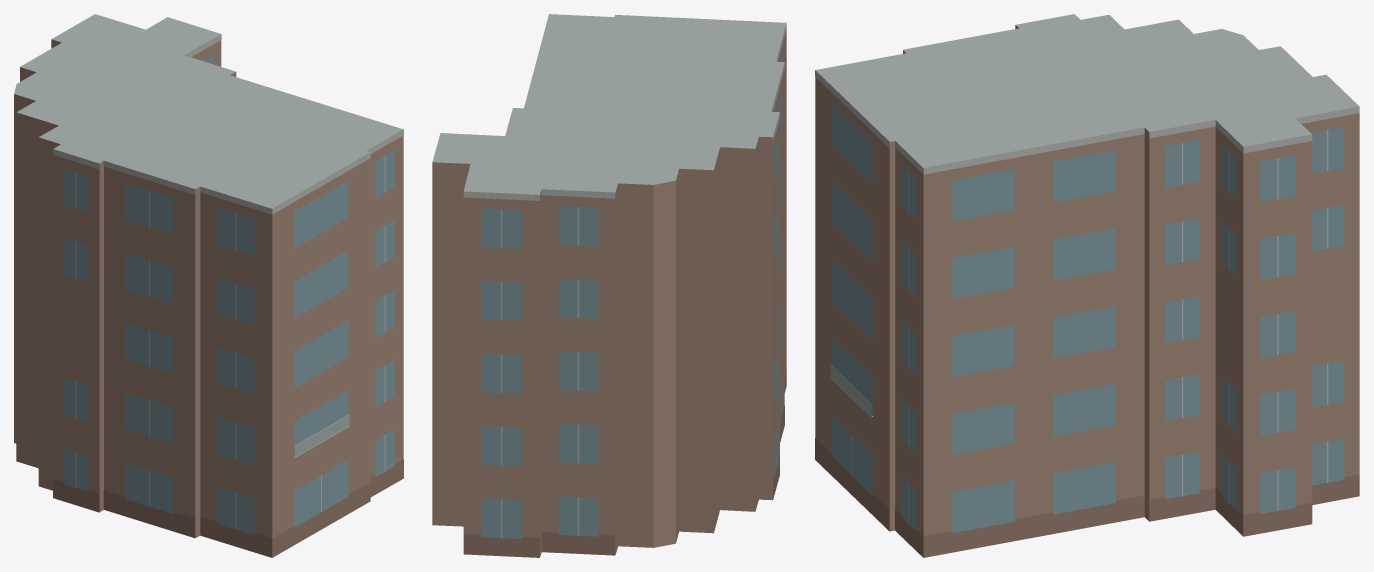
The model's file is survey-upis-32653717.glb.
3 views of the same model, side by side, from view 1: azimuth 30°, elevation 25°; view 2: azimuth 150°, elevation 25°; view 3: azimuth 270°, elevation 25° (orthographic). The views are drawn at different scales.
Parts seen in each view (by area): view 1: survey-upis-32653717.tmp; view 2: survey-upis-32653717.tmp; view 3: survey-upis-32653717.tmp.
Part boxes in pixels (x1,y1,x2,y2): survey-upis-32653717.tmp: [14, 14, 403, 557]; survey-upis-32653717.tmp: [432, 14, 786, 557]; survey-upis-32653717.tmp: [815, 14, 1359, 557].
Bounding box in the file's own units: 12.4 × 14.6 × 18.5.
